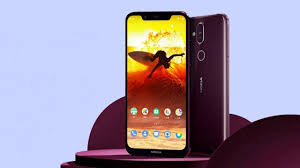nokia: (122, 7, 195, 160)
